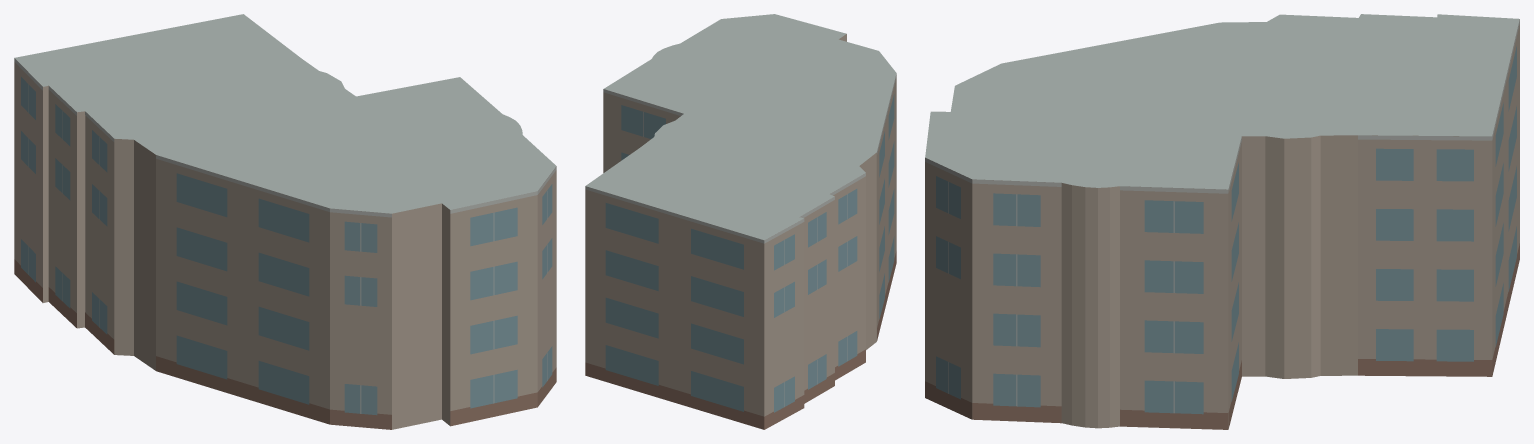
Rendered from survey-upis-32965500.glb.
3 views of the same model, side by side, from view 1: azimuth 30°, elevation 25°; view 2: azimuth 150°, elevation 25°; view 3: azimuth 270°, elevation 25° (orthographic). The views are drawn at different scales.
Parts seen in each view (by area): view 1: survey-upis-32965500.tmp; view 2: survey-upis-32965500.tmp; view 3: survey-upis-32965500.tmp.
Part boxes in pixels (x1,y1,x2,y2): survey-upis-32965500.tmp: [14, 14, 556, 429]; survey-upis-32965500.tmp: [585, 14, 896, 429]; survey-upis-32965500.tmp: [925, 14, 1519, 429].
Size of the model in its own units: 21.62 by 13.8 by 30.95.
